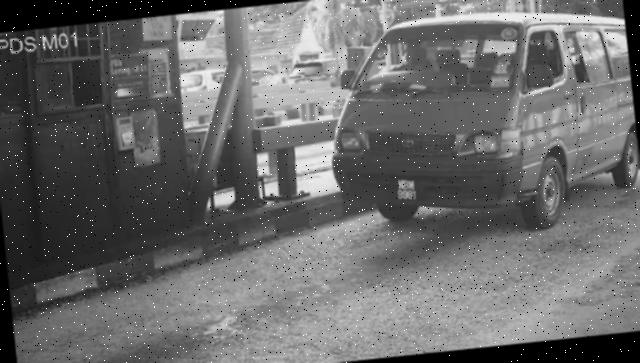License_Plate: (393, 174, 424, 208)
van: (317, 1, 640, 251)
